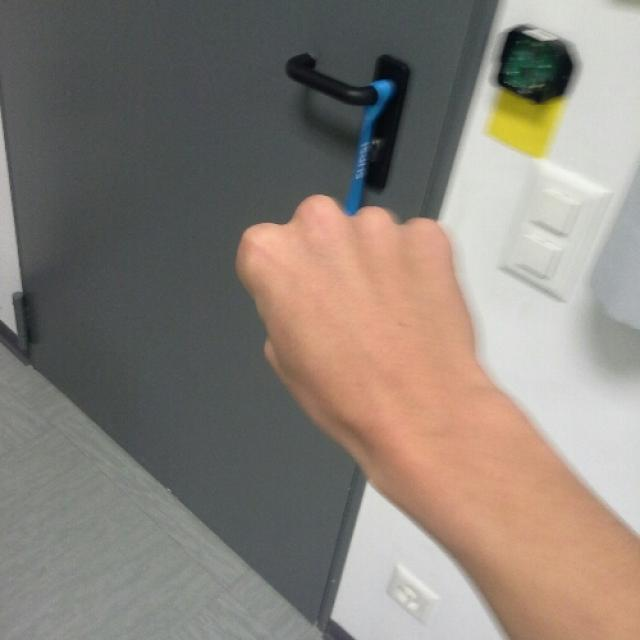fist: (236, 190, 479, 418)
